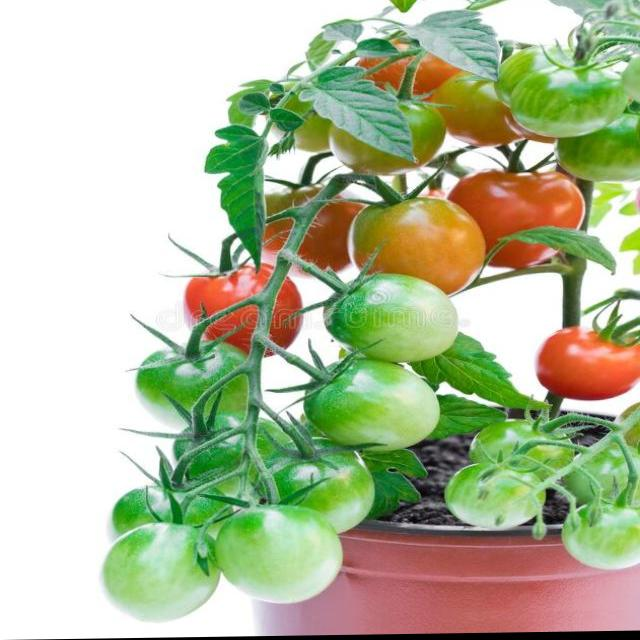kirmizi: (538, 293, 640, 424)
yesil: (86, 333, 408, 639)
